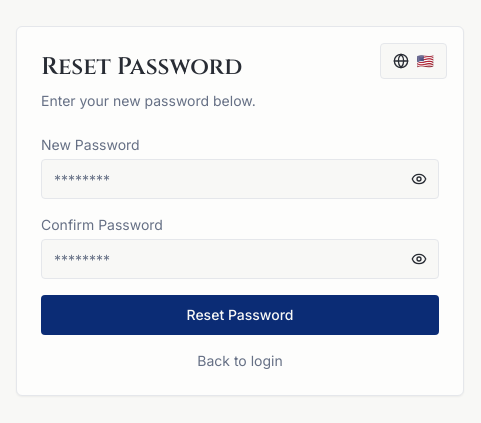
Test: ResetPassword page › shows validation error for weak password
Type "weak" into the password field labelled "New Password" at (240, 179), box [41,159,439,199]
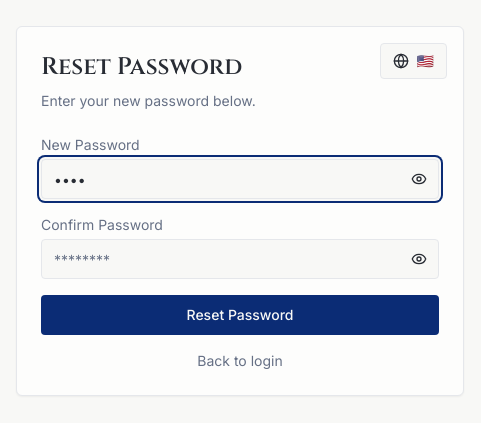
Type "weak" into the password field labelled "Confirm Password" at (240, 259), box [41,239,439,279]
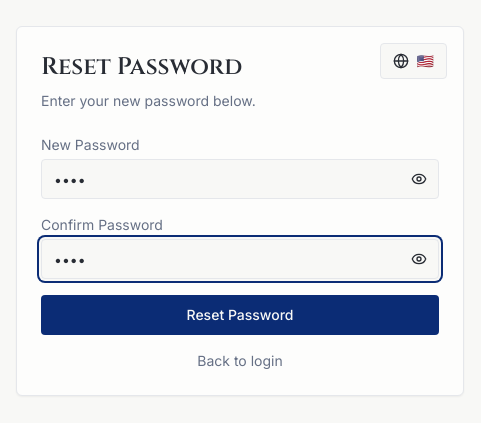
Click the button "Reset Password" at (240, 315), box [41,295,439,335]
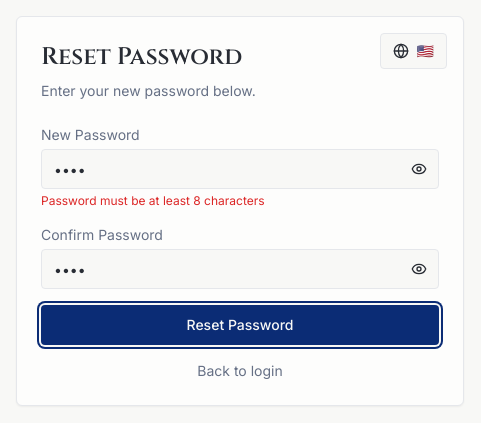
Result: the text "Password must be at least 8 characters" is shown at [41,193,265,208]
